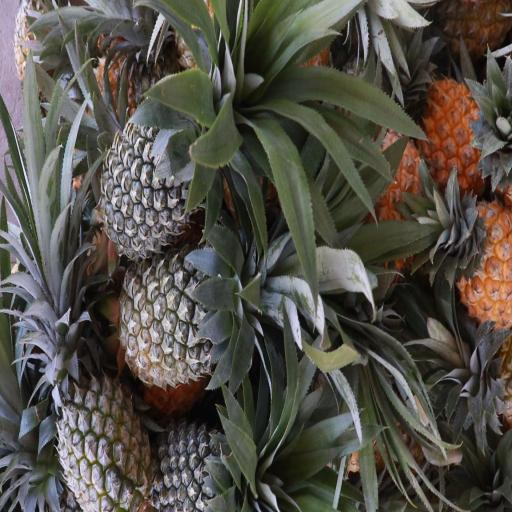------------------------------: (122, 248, 247, 379), (59, 360, 152, 512)
Pineapple - v8 v1: (421, 74, 502, 184), (447, 193, 512, 328)
